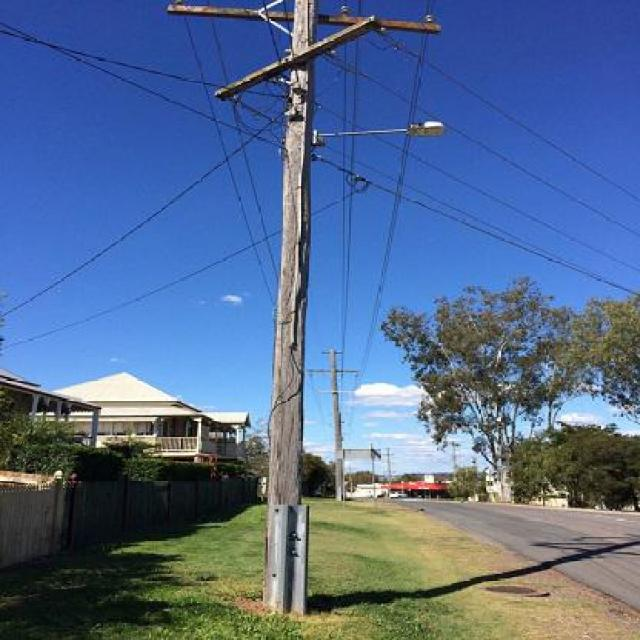pole: (169, 3, 405, 612)
